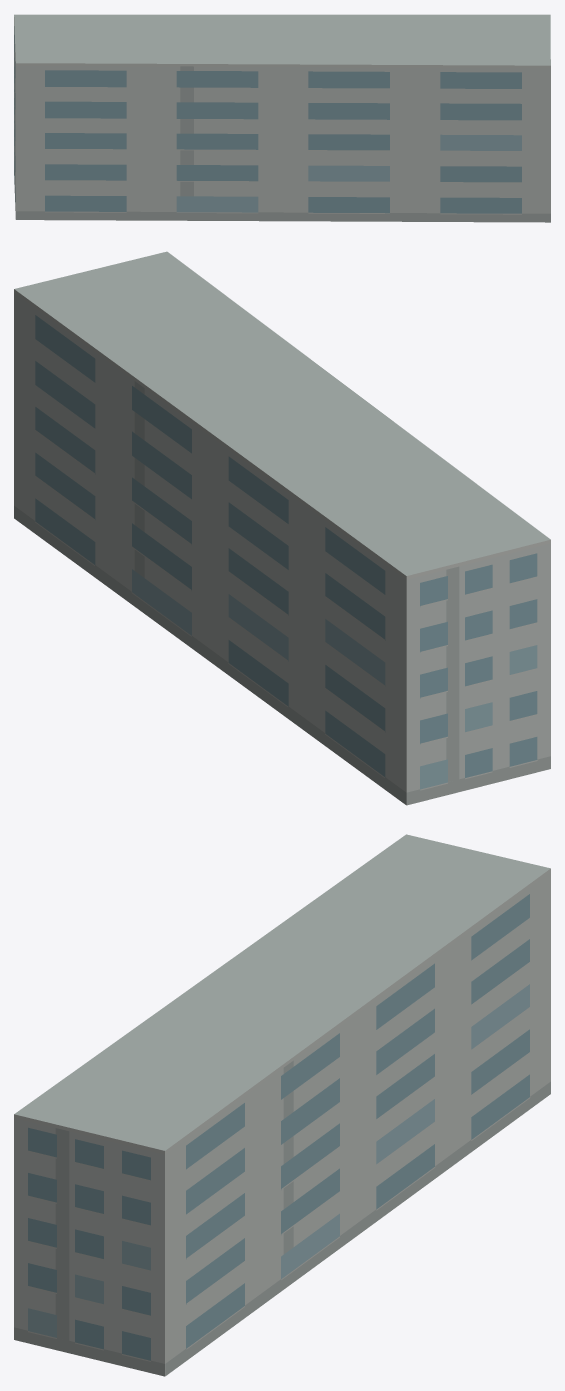
The model's file is residential-0fabfb6f-614e-4c06-a670-091c5ba5ae49.glb.
3 renders of one model, top to bottom at view 1: azimuth 30°, elevation 25°; view 2: azimuth 150°, elevation 25°; view 3: azimuth 270°, elevation 25°, orthographic. The views are drawn at different scales.
Parts seen in each view (by area): view 1: residential-0fabfb6f-614e-4c06-a670-091c5ba5ae49.tmp; view 2: residential-0fabfb6f-614e-4c06-a670-091c5ba5ae49.tmp; view 3: residential-0fabfb6f-614e-4c06-a670-091c5ba5ae49.tmp.
Part boxes in pixels (bbox=[...]): residential-0fabfb6f-614e-4c06-a670-091c5ba5ae49.tmp: bbox=[14, 14, 550, 222]; residential-0fabfb6f-614e-4c06-a670-091c5ba5ae49.tmp: bbox=[14, 251, 550, 805]; residential-0fabfb6f-614e-4c06-a670-091c5ba5ae49.tmp: bbox=[14, 834, 550, 1376].
Size of the model in its own units: 45.9 by 15.25 by 32.89.
